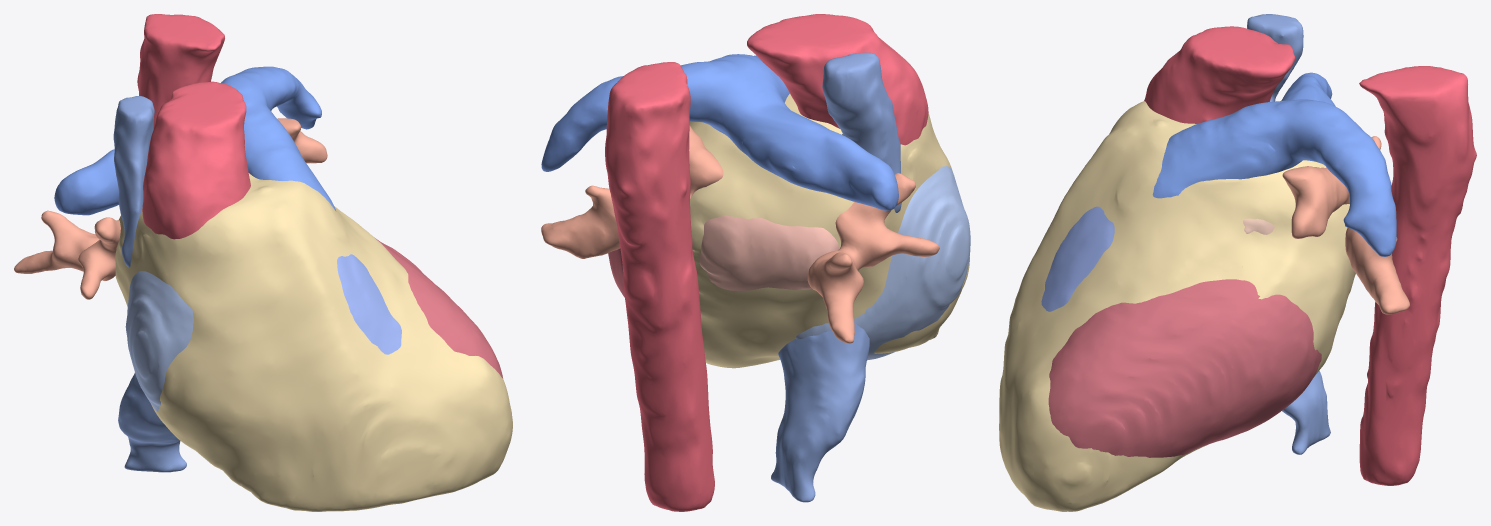
Rendered from heart.glb.
3 views of the same model, side by side, from view 1: azimuth 30°, elevation 25°; view 2: azimuth 150°, elevation 25°; view 3: azimuth 270°, elevation 25° (orthographic). The views are drawn at different scales.
Visible parts, largest first — view 1: pericardium, aorta, pulmonary_artery, heart_atrium_right, pulmonary_vein, superior_vena_cava, inferior_vena_cava, heart_myocardium, heart_ventricle_right; view 2: aorta, pericardium, pulmonary_artery, pulmonary_vein, heart_atrium_right, inferior_vena_cava, heart_atrium_left, superior_vena_cava; view 3: pericardium, aorta, heart_myocardium, pulmonary_artery, pulmonary_vein, heart_ventricle_right, inferior_vena_cava, superior_vena_cava.
Boxes of the visible parts, <box> form: pericardium: <box>115,173,512,511</box>; aorta: <box>137,14,250,239</box>; pulmonary_artery: <box>54,66,336,215</box>; heart_atrium_right: <box>125,271,193,412</box>; pulmonary_vein: <box>14,118,327,299</box>; superior_vena_cava: <box>113,96,154,267</box>; inferior_vena_cava: <box>118,373,186,472</box>; heart_myocardium: <box>375,238,502,378</box>; heart_ventricle_right: <box>337,254,401,354</box>; aorta: <box>605,14,928,511</box>; pericardium: <box>689,94,969,368</box>; pulmonary_artery: <box>541,54,898,210</box>; pulmonary_vein: <box>541,125,939,343</box>; heart_atrium_right: <box>795,166,970,360</box>; inferior_vena_cava: <box>771,322,869,502</box>; heart_atrium_left: <box>699,215,838,291</box>; superior_vena_cava: <box>822,52,901,212</box>; pericardium: <box>999,101,1355,511</box>; aorta: <box>1144,26,1476,485</box>; heart_myocardium: <box>1048,279,1321,457</box>; pulmonary_artery: <box>1152,72,1396,256</box>; pulmonary_vein: <box>1282,136,1409,314</box>; heart_ventricle_right: <box>1041,206,1114,311</box>; inferior_vena_cava: <box>1282,370,1330,454</box>; superior_vena_cava: <box>1247,14,1303,101</box>.
Bounding box in the file's own units: 125 × 136 × 145.
